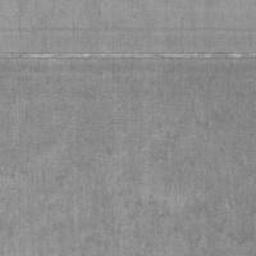Welding line: (0, 51, 256, 60)
